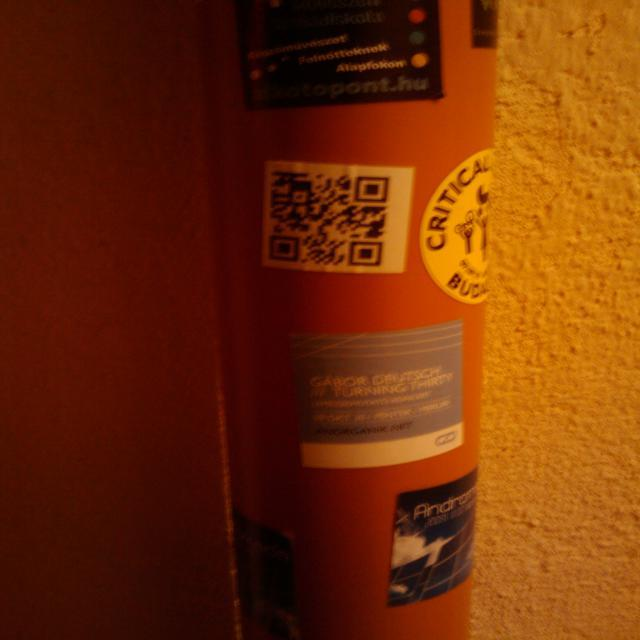qrcode: (269, 171, 391, 268)
